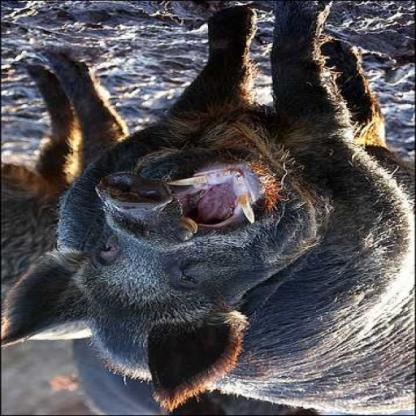boar: (0, 15, 415, 416)
